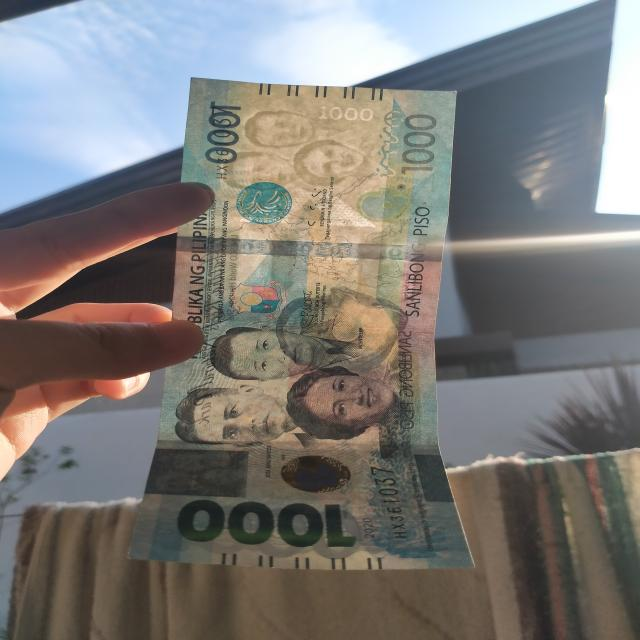concealed_value: (142, 447, 248, 497)
optically_variable_device: (266, 446, 366, 502), (362, 454, 420, 550)
see_through_mark: (374, 109, 404, 178)
value: (170, 495, 359, 553)
value_watermark: (320, 103, 376, 123)
watermark: (229, 110, 367, 192)
